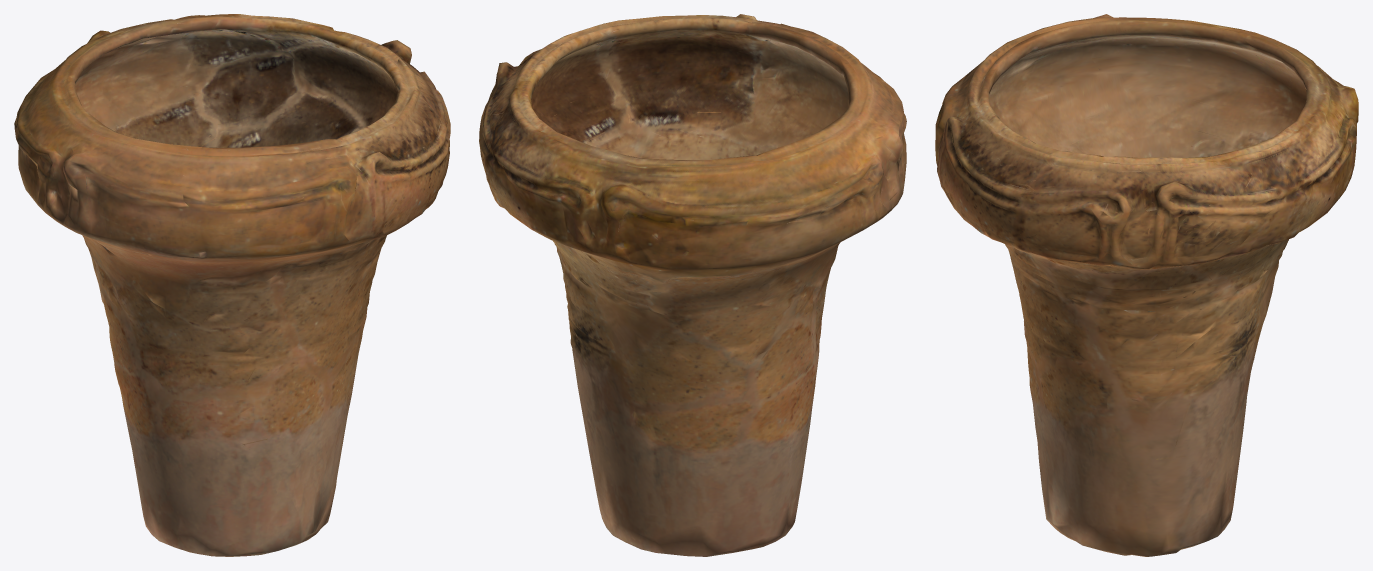
3 renders of one model, left to right at view 1: azimuth 30°, elevation 25°; view 2: azimuth 150°, elevation 25°; view 3: azimuth 270°, elevation 25°, orthographic.
Parts seen in each view (by area): view 1: TK0048_low; view 2: TK0048_low; view 3: TK0048_low.
Part boxes in pixels (box(x1,y1,x2,y2)): TK0048_low: box(14, 14, 450, 556); TK0048_low: box(479, 14, 906, 556); TK0048_low: box(935, 14, 1358, 556).
Bounding box in the file's own units: 200 × 221 × 196.
Materials: 1 (1 with a texture image).
